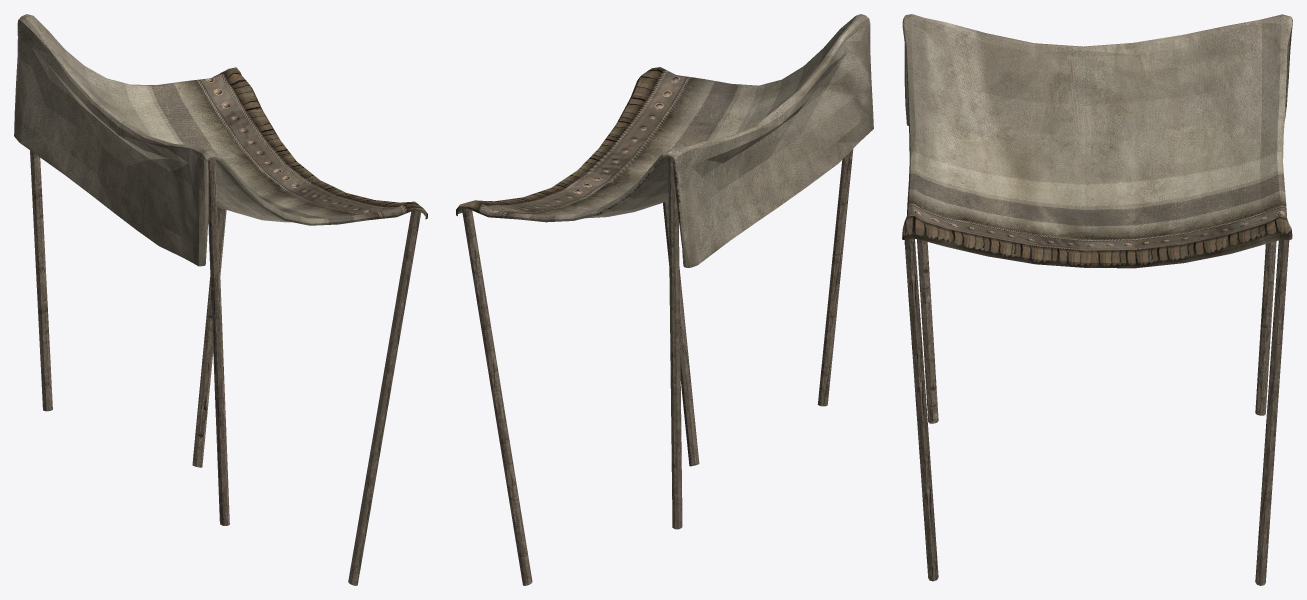
Rendered from TW2_5_TENT_01_5-transformed.glb.
The picture shows the model from 3 angles, left to right: view 1: azimuth 30°, elevation 25°; view 2: azimuth 150°, elevation 25°; view 3: azimuth 270°, elevation 25°; orthographic projection.
Visible parts, largest first — view 1: default; view 2: default; view 3: default.
Boxes of the visible parts, x1=… form: default: x1=14, y1=14, x2=427, y2=585; default: x1=456, y1=14, x2=873, y2=585; default: x1=902, y1=14, x2=1292, y2=585.
Size of the model in its own units: 1.9 by 3.78 by 2.73.
2 materials, 2 textured.
